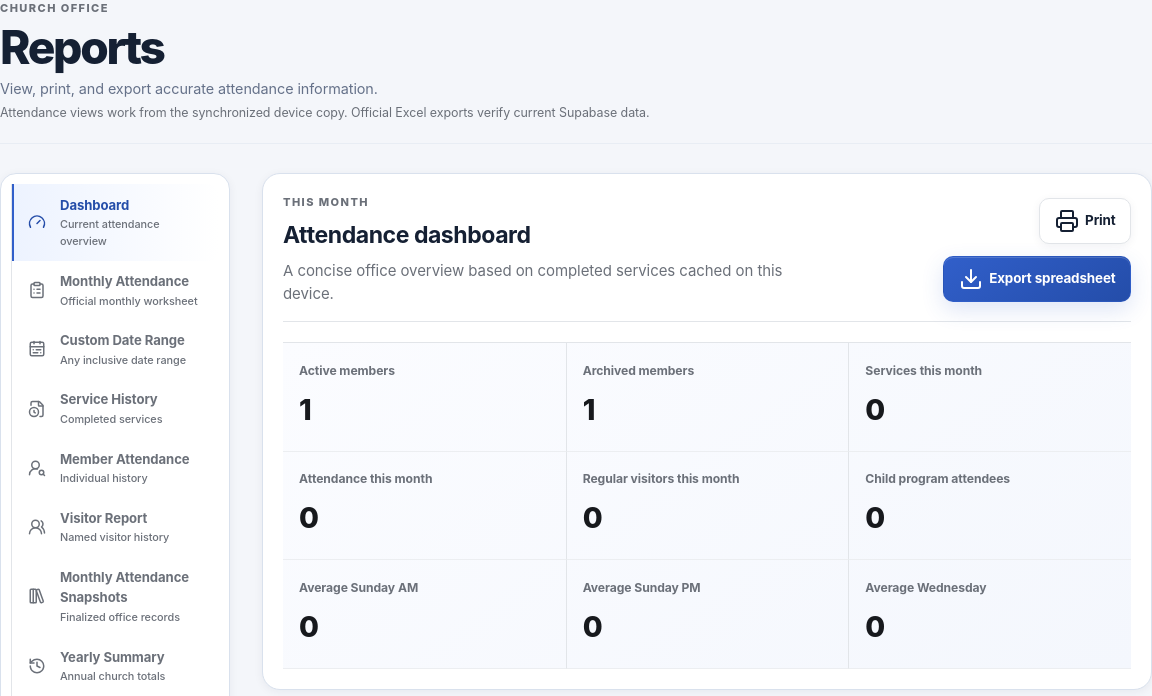
Test case: ReportsCenter › opens a newest-first visitor history with service-specific child classifications
The image size is (1152, 696).
Click the button "Visitor Report Named visitor history": point(116, 527) 12,498 -> 219,557
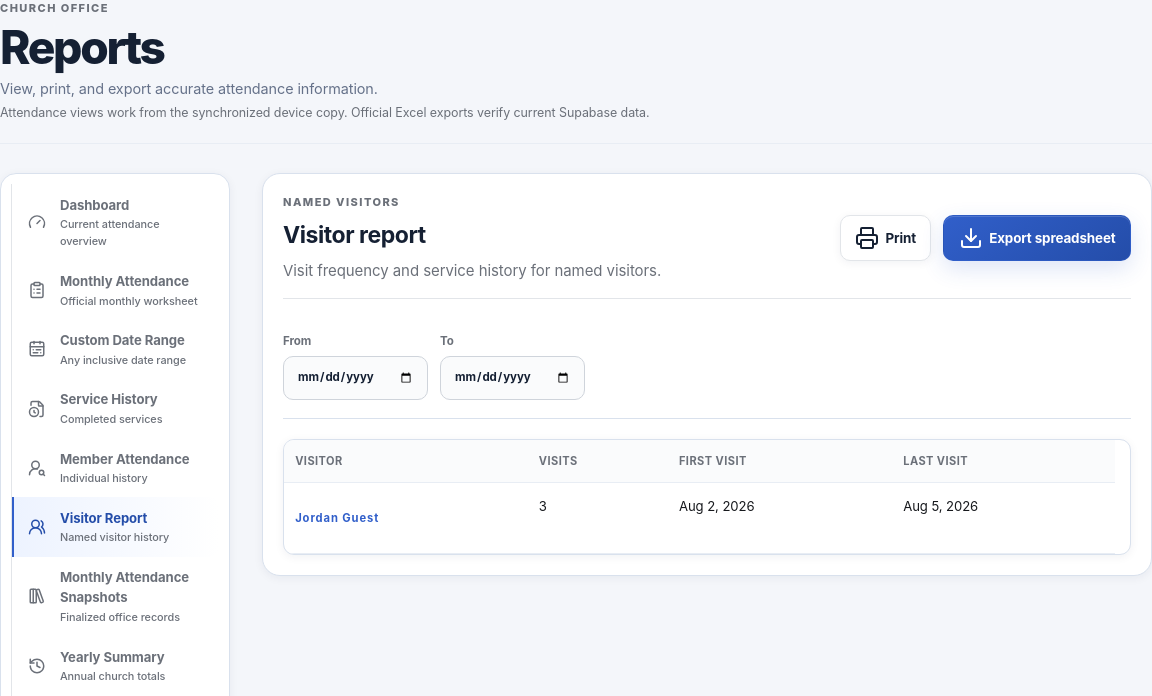
Click the button with aria-label "View attendance history for Jordan Guest": point(337, 518) 295,496 -> 379,540
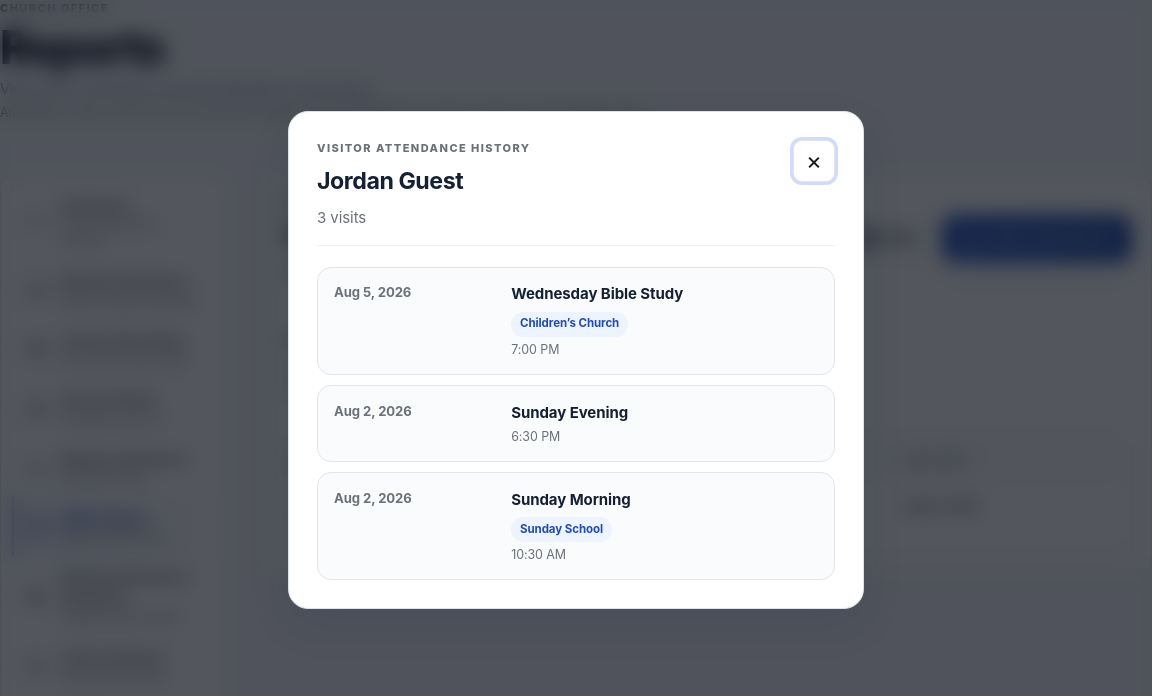
Check: the number of list items is 3, box 317,267 -> 835,375; 317,385 -> 835,462; 317,472 -> 835,580
Check: the list item "Aug 5, 2026 Wednesday Bible Study Children’s Church 7:00 PM" is shown, box 317,267 -> 835,375
Check: the list item "Aug 2, 2026 Sunday Evening 6:30 PM" is shown, box 317,385 -> 835,462
Press Escape
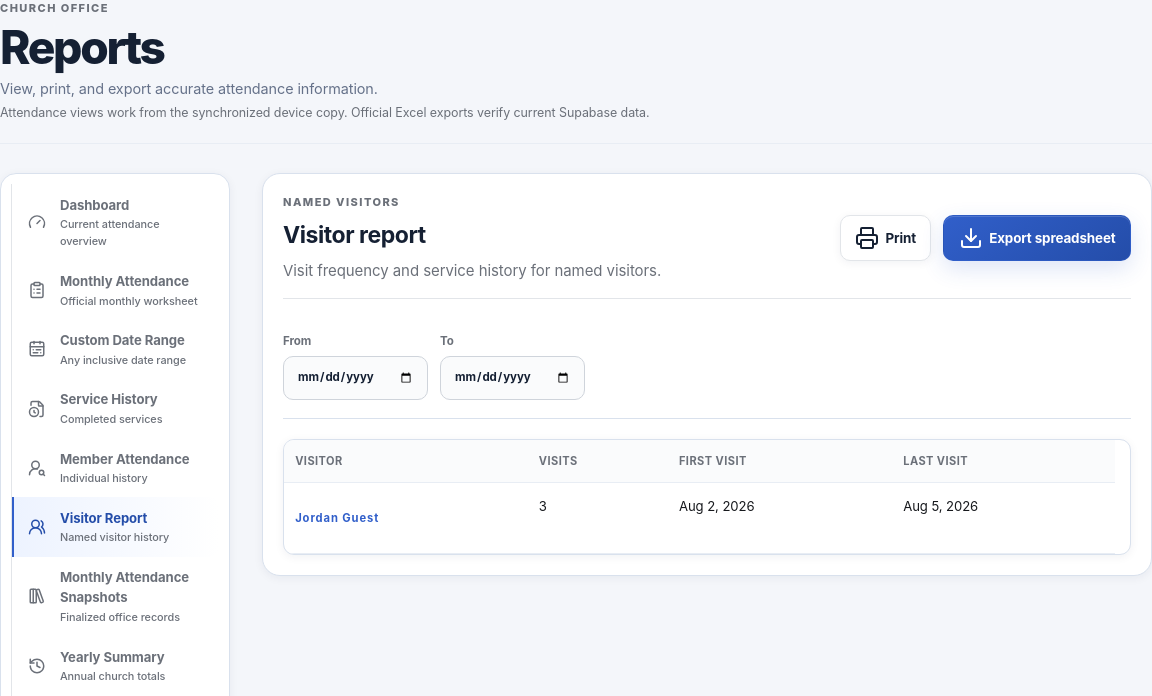
Check: the dialog is gone
